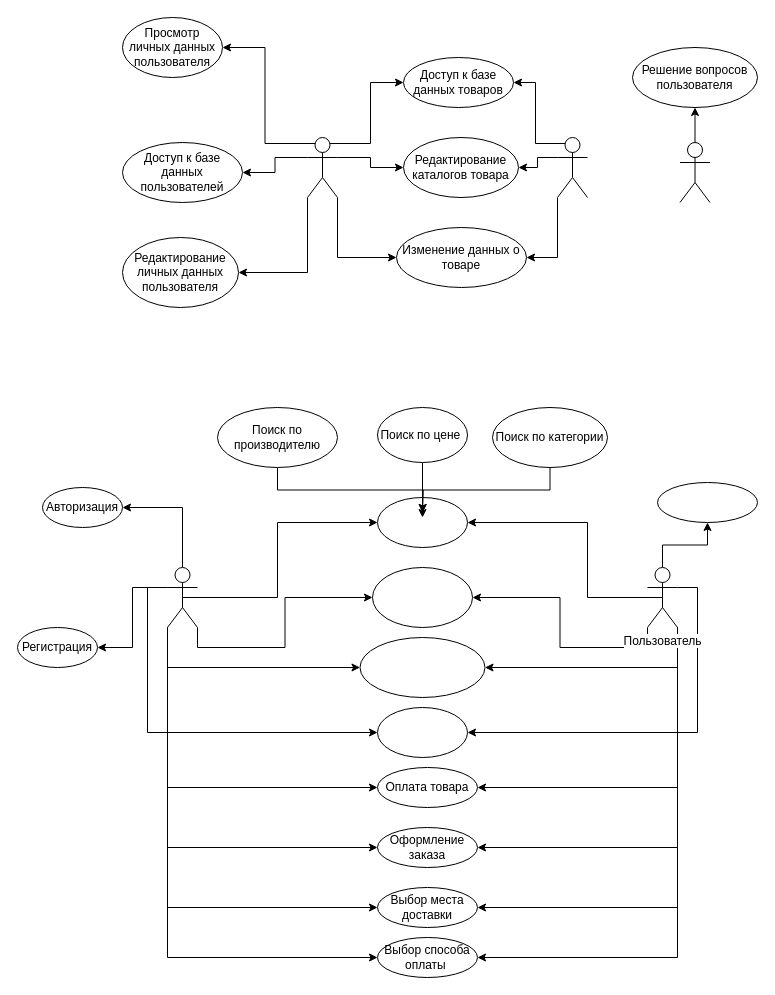
The diagram is 775 pixels wide and 995 high, and some of its shapes have lost their labels. Each missing label, with the box of its shape:
Администратор: (306, 136, 338, 198)
Гость: (166, 566, 198, 628)
Добавление товара в корзину: (372, 566, 472, 628)
Менеджер: (556, 136, 588, 198)
Настройка аккаунта: (656, 482, 758, 522)
Поиск товара: (376, 496, 468, 548)
Просмотр каталога товаров: (376, 706, 468, 758)
Тех-поддержка: (679, 142, 710, 202)
Удаление товара из корзины: (359, 636, 485, 698)
